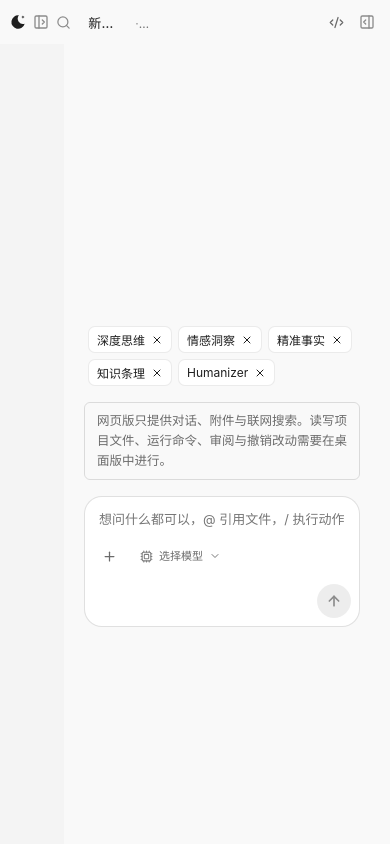
Test case: App flows › sends text, streams a reply, and persists both messages
This screenshot has width=390, height=844.
Type "今天有点累" into the text box with placeholder "想问什么都可以，@ 引用文件，/ 执行动作" at (222, 520), box [99,510,345,530]
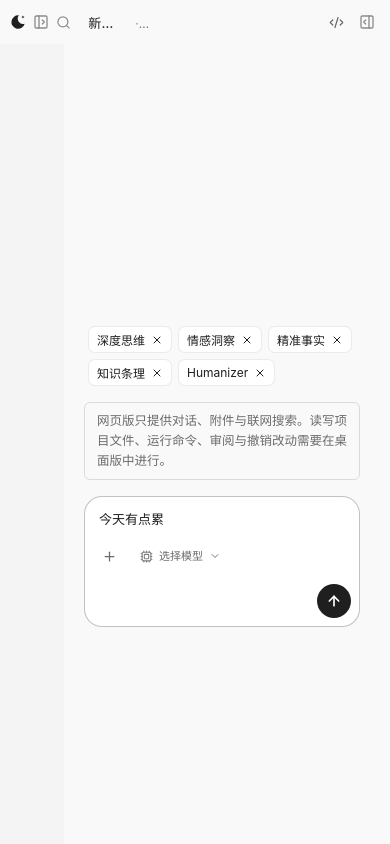
Click the button named "发送" at (334, 602), box [317,584,351,618]
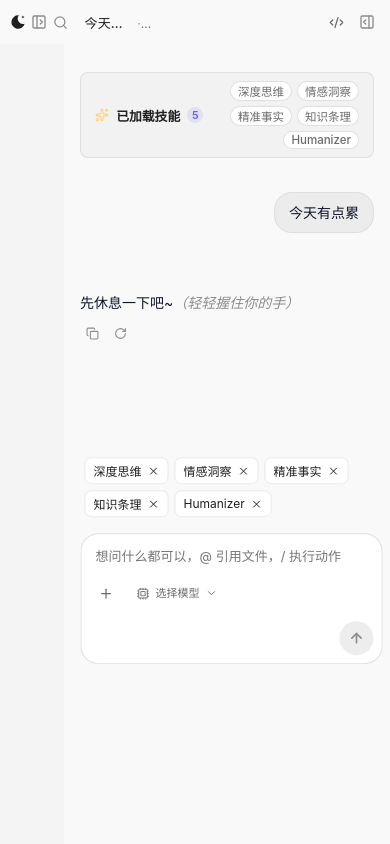
Expected: the text "先休息一下吧~（轻轻握住你的手）" is shown, [80,294,299,311]
